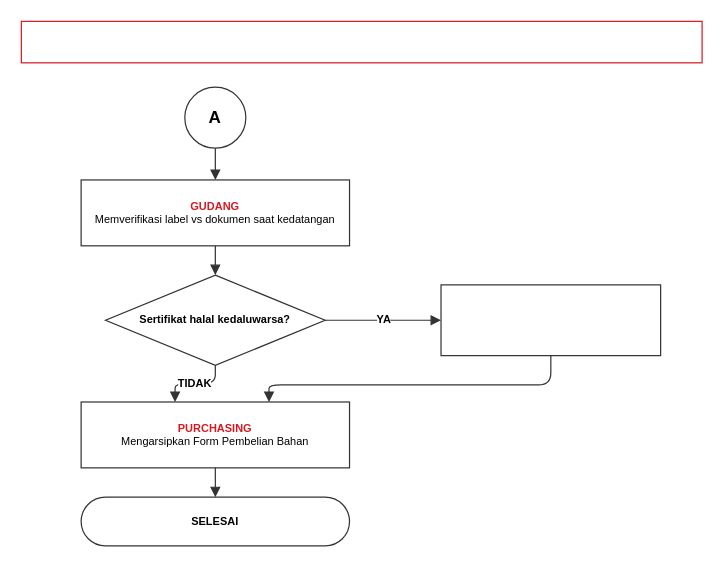
Some shapes in this 723 by 567 pixel diagram are drawn without their labels. The box of each missing label's shape, as (x1, y1, x2, y2) in pixels:
PURCHASING Meminta SKPP ke supplier: (440, 284, 661, 356)
SOP-AKSI-PUR-03 PEMBELIAN BAHAN BAKU — BAGIAN 2/2: (20, 20, 702, 63)
